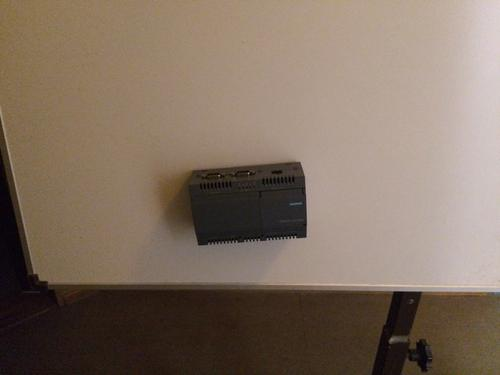iot2000: (187, 160, 308, 246)
